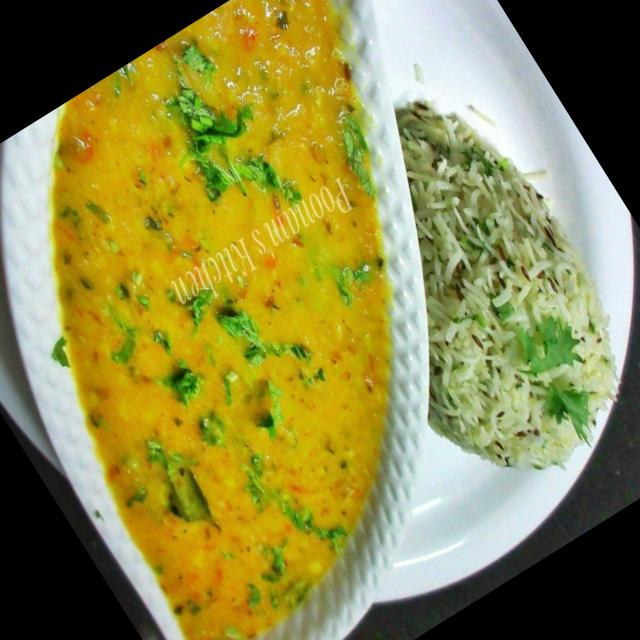dal: (59, 0, 392, 640)
rice: (279, 85, 640, 522)
